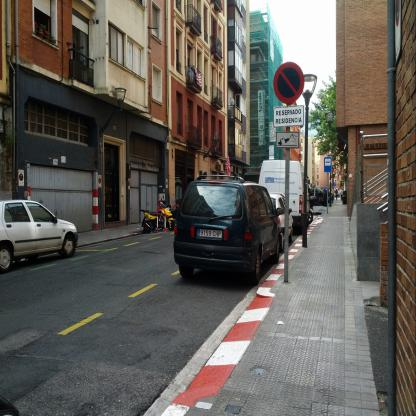Car: (175, 171, 281, 282), (0, 196, 79, 275), (267, 191, 296, 252)
